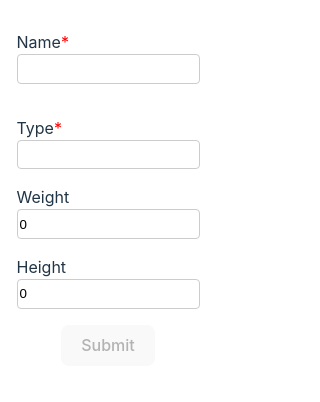
Test case: PokemonForm › submits the form
Type "pikapika" into the field labelled "Name*" at x=108, y=69, box [16,54,200,84]
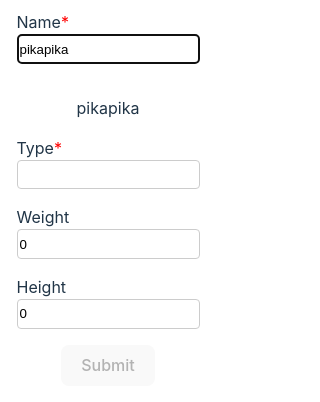
Type "electric" into the field labelled "Type*" at x=108, y=175, box [16,160,200,189]
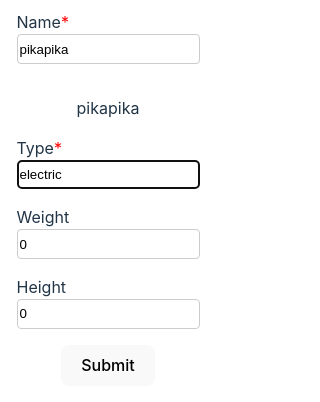
Check: the button "Submit" is enabled, box [61,345,155,386]
